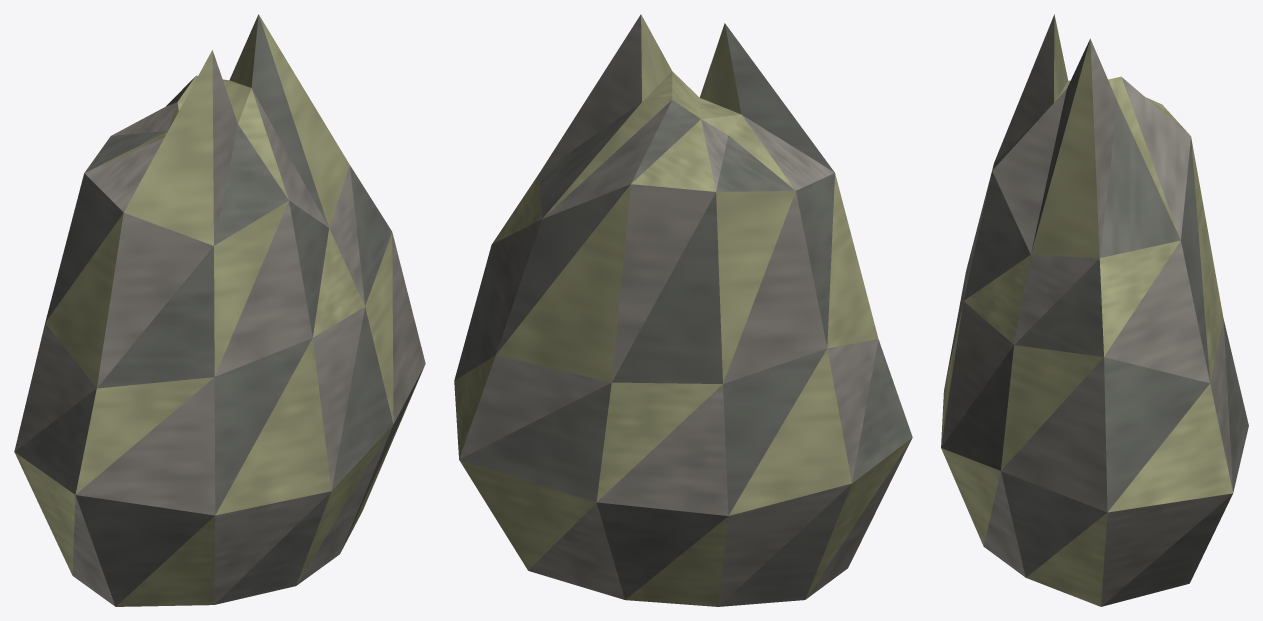
Rendered from milestone_stone.fbx.
3 renders of one model, left to right at view 1: azimuth 30°, elevation 25°; view 2: azimuth 150°, elevation 25°; view 3: azimuth 270°, elevation 25°, orthographic. The views are drawn at different scales.
Parts seen in each view (by area): view 1: milestone_stone; view 2: milestone_stone; view 3: milestone_stone.
Boxes of the visible parts, bbox=[...] form: milestone_stone: bbox=[14, 14, 425, 606]; milestone_stone: bbox=[454, 14, 912, 606]; milestone_stone: bbox=[941, 14, 1248, 606].
Size of the model in its own units: 59 by 74 by 40.
Materials: 1 (1 with a texture image).
